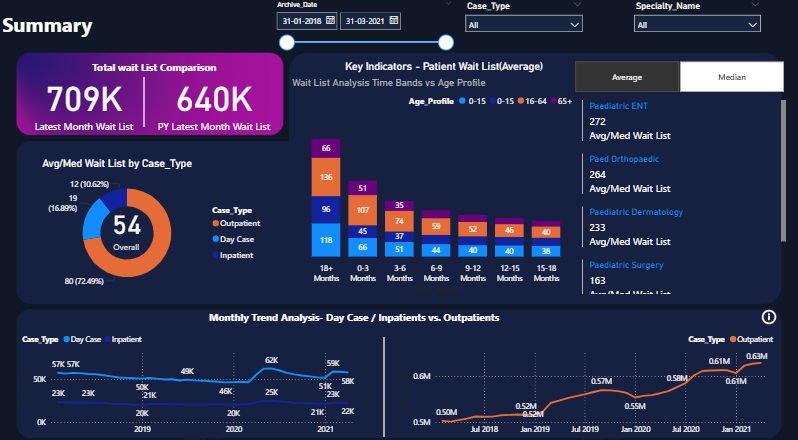

The dashboard page shown, as its layout file describes it:
{"tool":"powerbi","page":{"name":"Summary","canvas":[1280,720],"ordinal":0},"visuals":[{"type":"card","fields":{"Values":["All_Data.Latest Month Wait List"]},"box":[32,112,208,112],"z":0},{"type":"card","fields":{"Values":["All_Data.PY Latest Month Wait List"]},"box":[240,112,208,112],"z":1000},{"type":"slicer","fields":{"Values":["Calculation Method.Calc Method"]},"box":[896.8,96.8,383.9,62.9],"z":2000},{"type":"donutChart","fields":{"Category":["All_Data.Case_Type"],"Y":["All_Data.Avg/Med Wait List"]},"box":[64,256,368,224],"z":3000},{"type":"columnChart","title":"Wait List Analysis Time Bands vs Age Profile","fields":{"Y":["All_Data.Avg/Med Wait List"],"Category":["All_Data.Time_Bands"],"Series":["All_Data.Age_Profile"]},"box":[464,128,464,352],"z":4000},{"type":"multiRowCard","fields":{"Values":["All_Data.Avg/Med Wait List","All_Data.Speciality_Name"]},"box":[928,160,336,320],"z":5000},{"type":"card","fields":{"Values":["All_Data.NoDataLeft"]},"box":[176,592,208,32],"z":6000},{"type":"card","fields":{"Values":["All_Data.NoDataRight"]},"box":[752,592,208,32],"z":7000},{"type":"lineChart","fields":{"Category":["All_Data.Archive_Date"],"Y":["Sum(All_Data.Total)"],"Series":["All_Data.Case_Type"]},"box":[32,528,544,192],"z":8000},{"type":"lineChart","fields":{"Category":["All_Data.Archive_Date"],"Y":["Sum(All_Data.Total)"],"Series":["All_Data.Case_Type"]},"box":[640,528,608,192],"z":9000},{"type":"slicer","fields":{"Values":["All_Data.Archive_Date"]},"box":[432,0,304,96],"z":10000},{"type":"slicer","fields":{"Values":["All_Data.Case_Type"]},"box":[735.5,0,208.1,80.6],"z":11000},{"type":"slicer","fields":{"Values":["All_Data.Specialty_Name"]},"box":[1006.5,0,222.6,80.6],"z":12000},{"type":"textbox","box":[0,16,256,64],"z":13000},{"type":"card","fields":{"Values":["All_Data.Avg/Med Wait List"]},"box":[88.7,256.5,232.3,224.2],"z":14000},{"type":"shape","box":[112,128,240,80],"z":15000},{"type":"textbox","box":[144,96,240,64],"z":16000},{"type":"textbox","box":[304,496,528,32],"z":17000},{"type":"shape","box":[512,544,208,160],"z":18000},{"type":"card","fields":{"Values":["All_Data.Dynamic Title"]},"box":[512,96,400,32],"z":19000},{"type":"actionButton","box":[1216,496,48,32],"z":20000}]}

Visuals, with their boxes in screenshot pixels (x1, y1, x2, y2), scaled from the page's 1280x720 canvas onto the 798x440 screenshot:
card - All_Data.Latest Month Wait List: pyautogui.locateOnScreen(20, 68, 150, 137)
card - All_Data.PY Latest Month Wait List: pyautogui.locateOnScreen(150, 68, 279, 137)
slicer - Calculation Method.Calc Method: pyautogui.locateOnScreen(559, 59, 797, 98)
donutChart - All_Data.Case_Type x All_Data.Avg/Med Wait List: pyautogui.locateOnScreen(40, 156, 269, 293)
"Wait List Analysis Time Bands vs Age Profile" columnChart: pyautogui.locateOnScreen(289, 78, 579, 293)
multiRowCard - All_Data.Avg/Med Wait List x All_Data.Speciality_Name: pyautogui.locateOnScreen(579, 98, 788, 293)
card - All_Data.NoDataLeft: pyautogui.locateOnScreen(110, 362, 239, 381)
card - All_Data.NoDataRight: pyautogui.locateOnScreen(469, 362, 598, 381)
lineChart - All_Data.Archive_Date x Sum(All_Data.Total): pyautogui.locateOnScreen(20, 323, 359, 439)
lineChart - All_Data.Archive_Date x Sum(All_Data.Total): pyautogui.locateOnScreen(399, 323, 778, 439)
slicer - All_Data.Archive_Date: pyautogui.locateOnScreen(269, 0, 459, 59)
slicer - All_Data.Case_Type: pyautogui.locateOnScreen(459, 0, 588, 49)
slicer - All_Data.Specialty_Name: pyautogui.locateOnScreen(627, 0, 766, 49)
textbox: pyautogui.locateOnScreen(0, 10, 160, 49)
card - All_Data.Avg/Med Wait List: pyautogui.locateOnScreen(55, 157, 200, 294)
shape: pyautogui.locateOnScreen(70, 78, 219, 127)
textbox: pyautogui.locateOnScreen(90, 59, 239, 98)
textbox: pyautogui.locateOnScreen(190, 303, 519, 323)
shape: pyautogui.locateOnScreen(319, 332, 449, 430)
card - All_Data.Dynamic Title: pyautogui.locateOnScreen(319, 59, 569, 78)
actionButton: pyautogui.locateOnScreen(758, 303, 788, 323)
